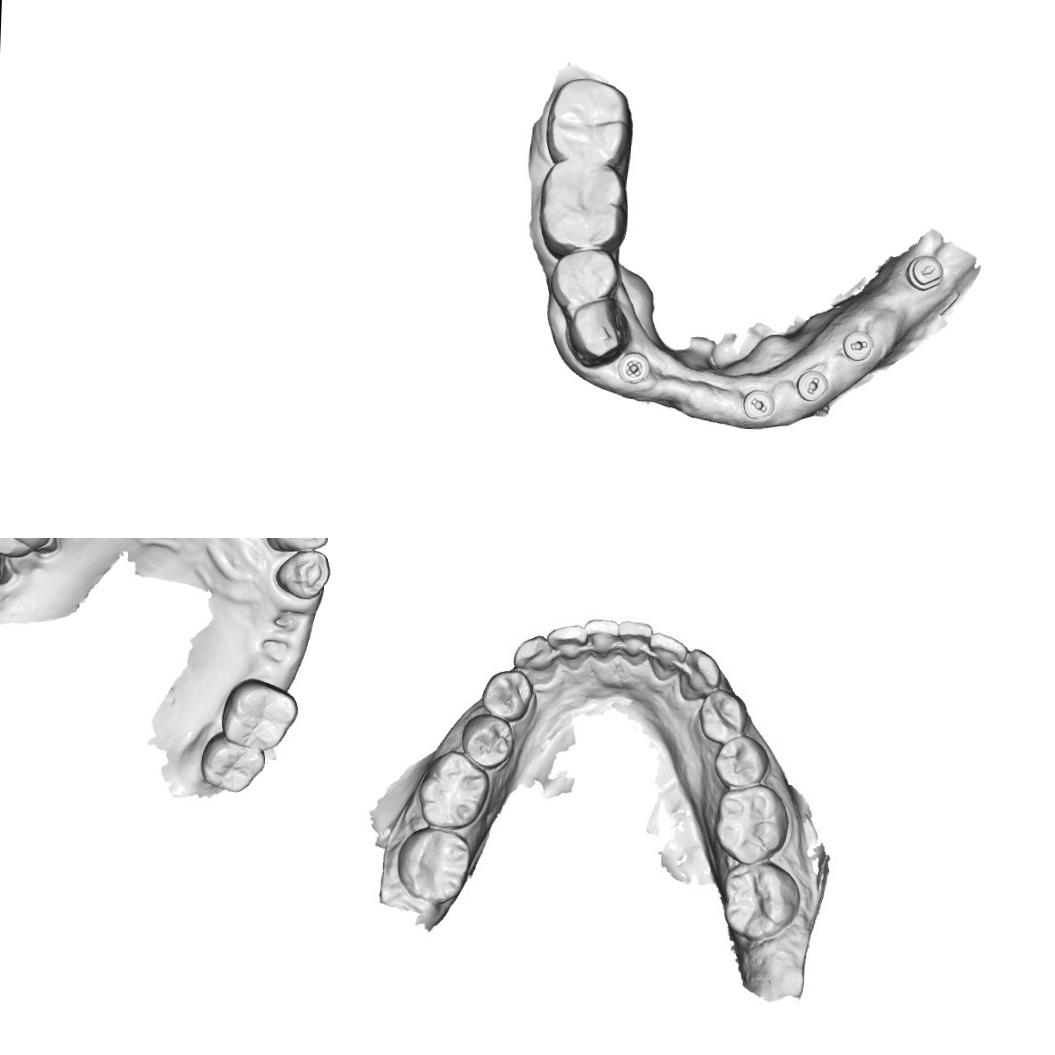canine: (272, 548, 332, 600), (515, 632, 560, 684), (678, 646, 718, 698)
implant_minus: (904, 254, 944, 292), (794, 368, 830, 404), (741, 388, 777, 422), (841, 330, 875, 362)
implant_plus: (616, 350, 652, 386)
incisor: (649, 633, 681, 678), (583, 616, 619, 654), (550, 628, 582, 667), (618, 620, 650, 654), (263, 538, 330, 553)
molar: (536, 159, 630, 264), (543, 76, 634, 170), (219, 676, 300, 752), (724, 866, 800, 942), (395, 830, 470, 904), (718, 789, 788, 867), (415, 756, 489, 824), (198, 729, 266, 793)
premolar: (548, 246, 622, 318), (564, 295, 632, 369), (715, 737, 768, 787), (462, 719, 517, 766), (698, 688, 745, 741), (486, 666, 531, 720)
